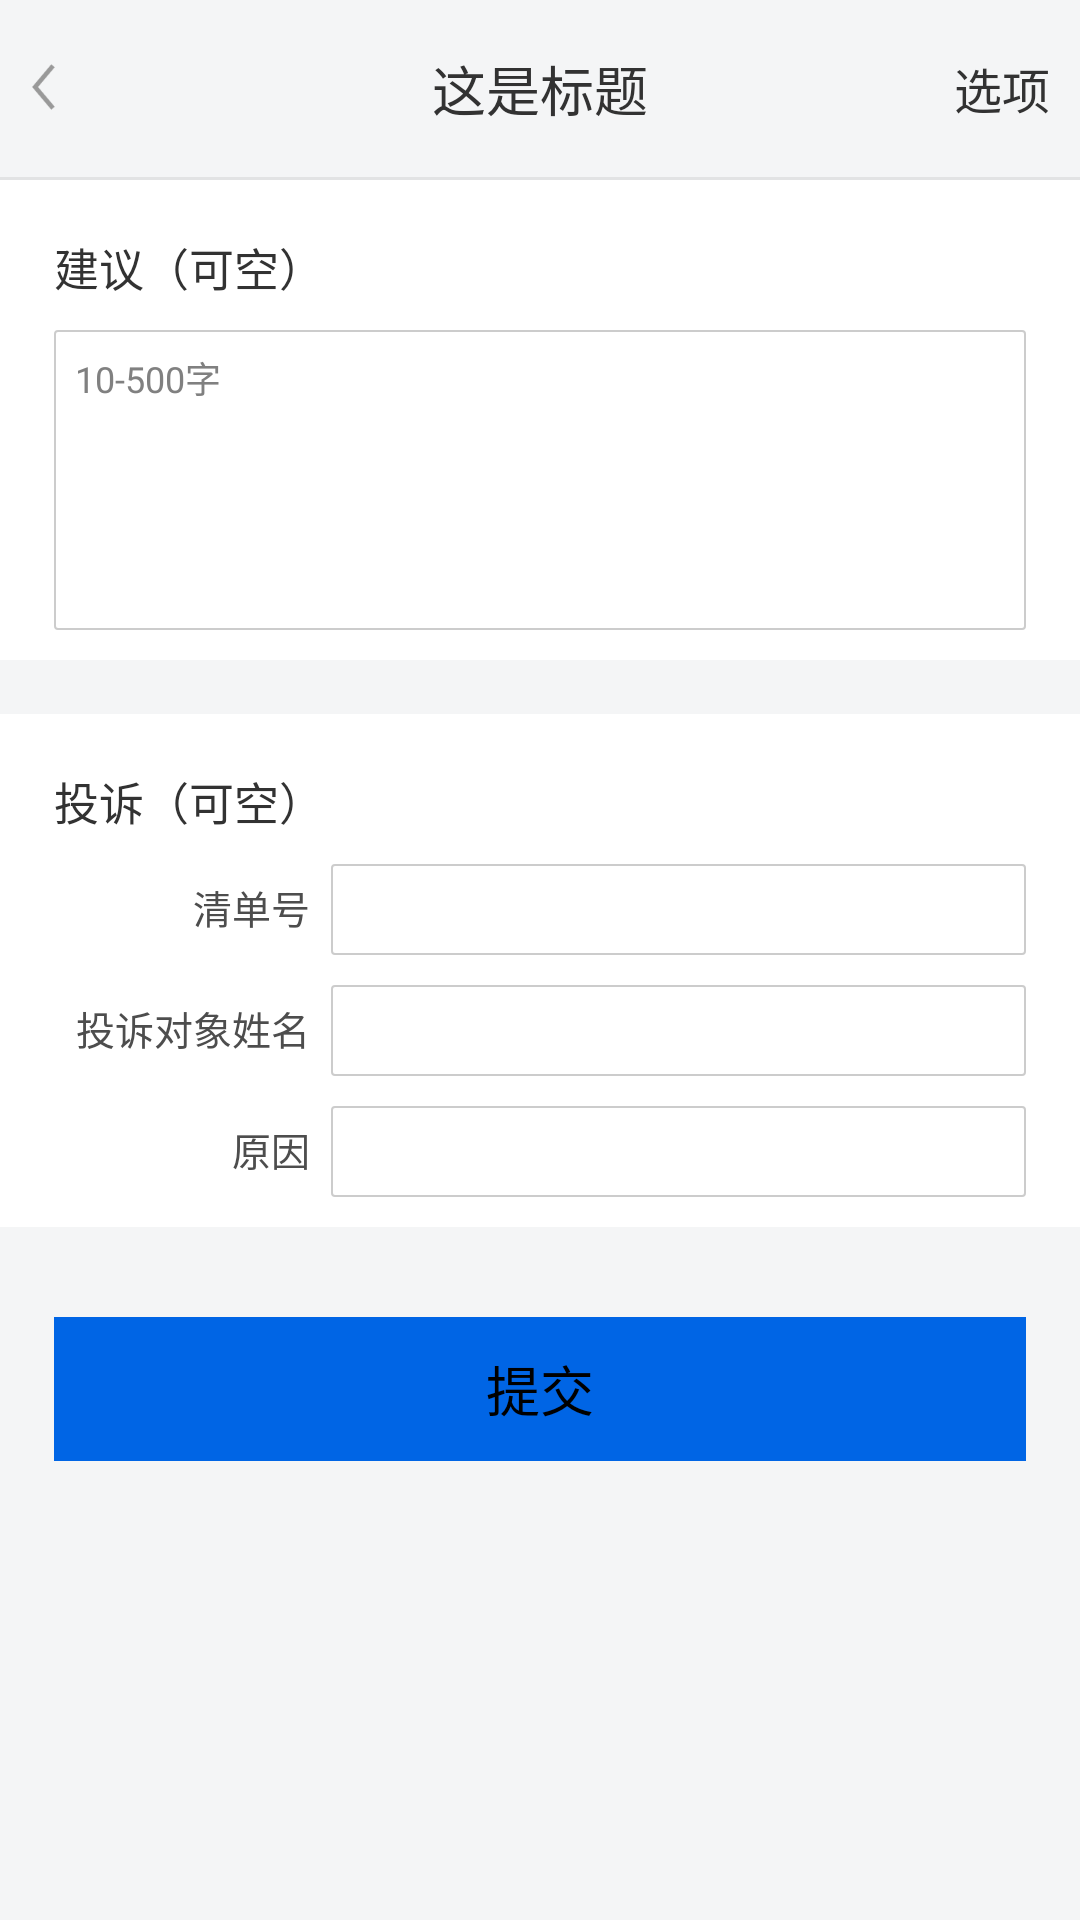

Point at icon controls on the screen. Image size 1080 × 1920, points as (x=x, y=y).
back: (x=43, y=87)
